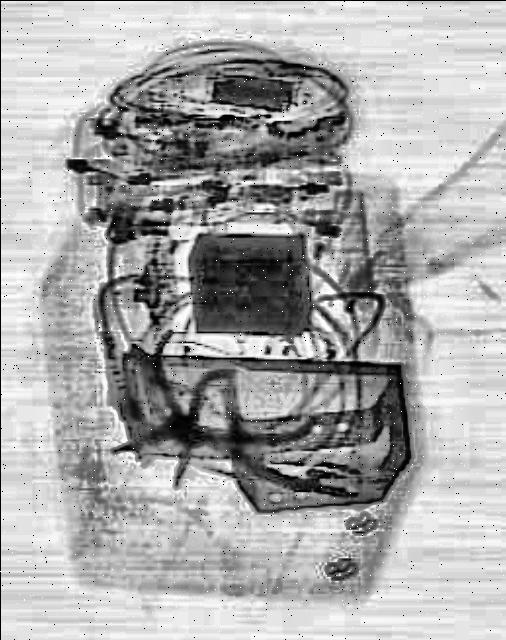Pliers: (88, 294, 316, 556)
